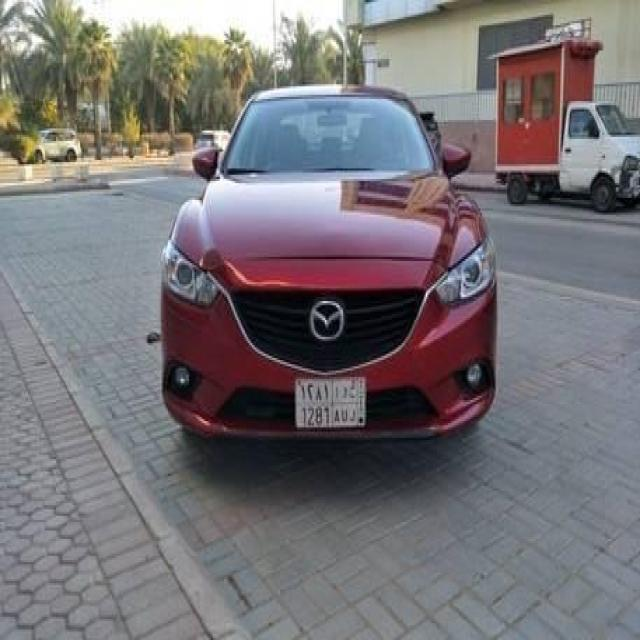license_plate: (284, 358, 371, 438)
